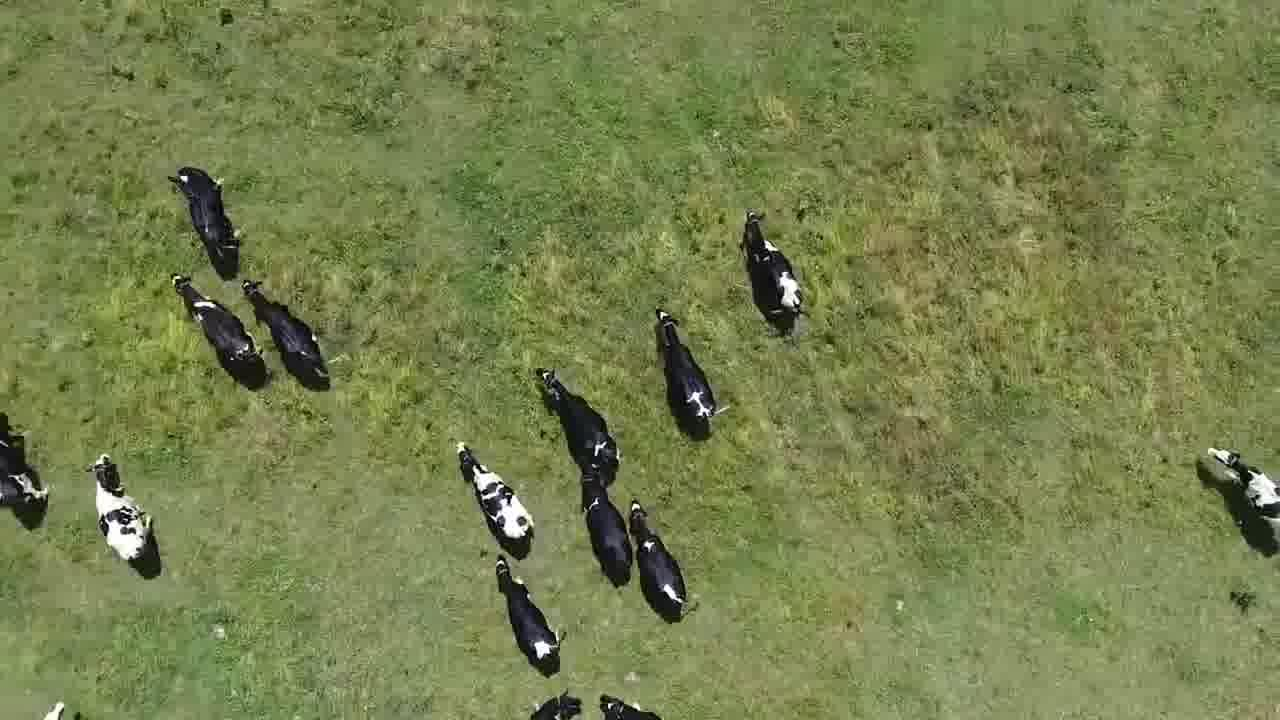cow: (168, 269, 267, 384), (533, 365, 626, 486), (239, 275, 333, 384), (739, 205, 814, 327), (164, 157, 245, 266), (624, 498, 697, 617), (456, 441, 538, 546), (571, 453, 636, 584), (653, 305, 720, 431), (86, 450, 158, 563), (494, 556, 563, 673), (1203, 444, 1280, 531), (0, 469, 52, 509), (528, 686, 584, 720), (600, 690, 660, 720)
